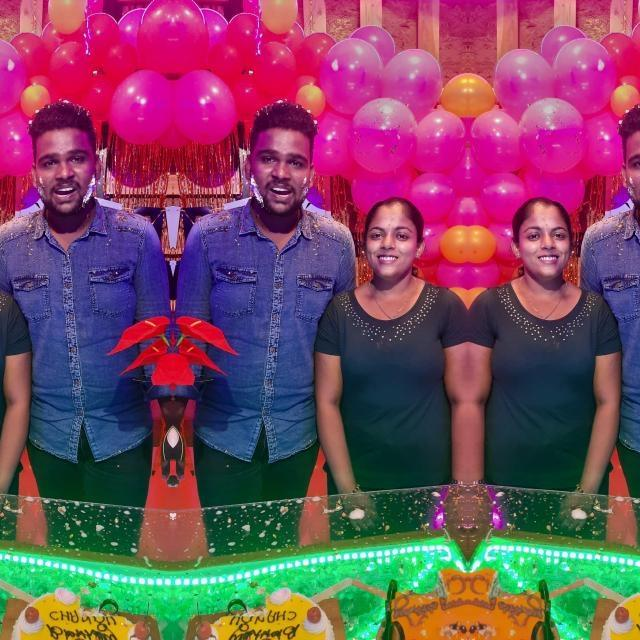person: (197, 96, 329, 477), (15, 96, 147, 477), (337, 190, 467, 496), (467, 190, 597, 496), (605, 95, 640, 476), (0, 190, 7, 496)
